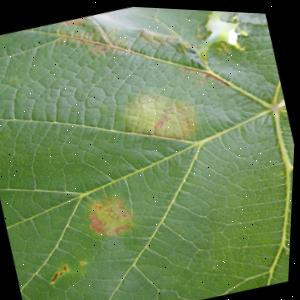Folha: (0, 0, 300, 300)
Fungo: (115, 78, 206, 155), (83, 188, 140, 241), (48, 263, 72, 285)
